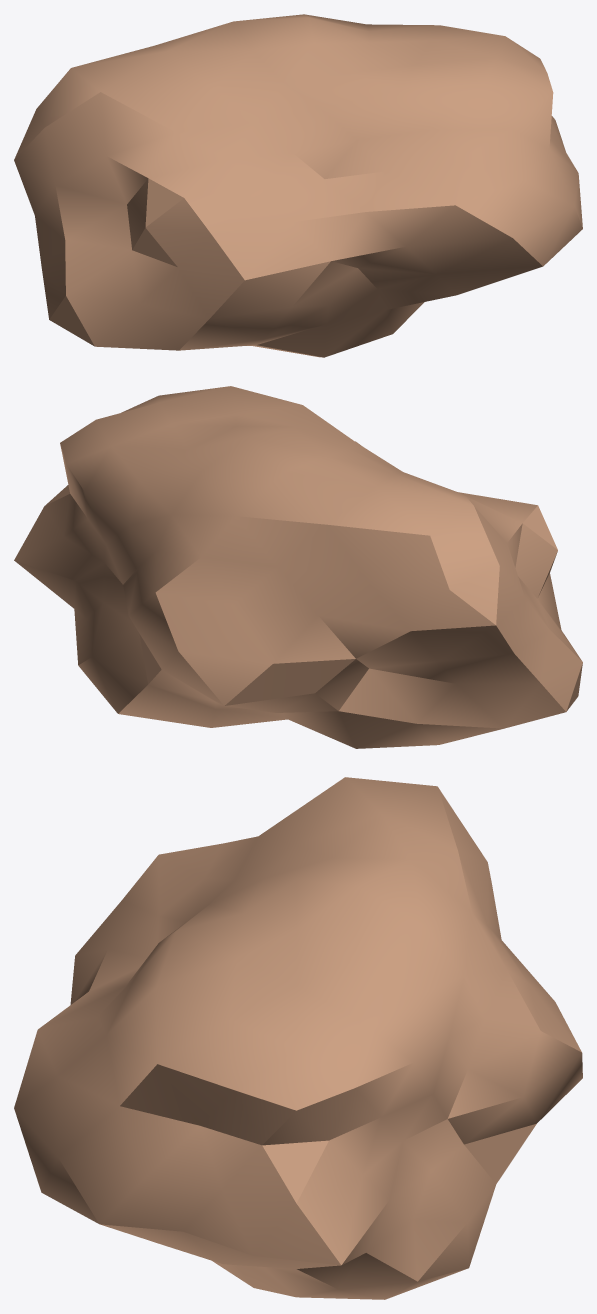
Rendered from rock_red.glb.
3 renders of one model, top to bottom at view 1: azimuth 30°, elevation 25°; view 2: azimuth 150°, elevation 25°; view 3: azimuth 270°, elevation 25°, orthographic. The views are drawn at different scales.
Parts seen in each view (by area): view 1: rock_red; view 2: rock_red; view 3: rock_red.
Boxes of the visible parts, x1=… form: rock_red: x1=14, y1=14, x2=582, y2=357; rock_red: x1=14, y1=386, x2=582, y2=748; rock_red: x1=14, y1=777, x2=582, y2=1299.
Bounding box in the file's own units: 4.34 × 2.36 × 3.23.
